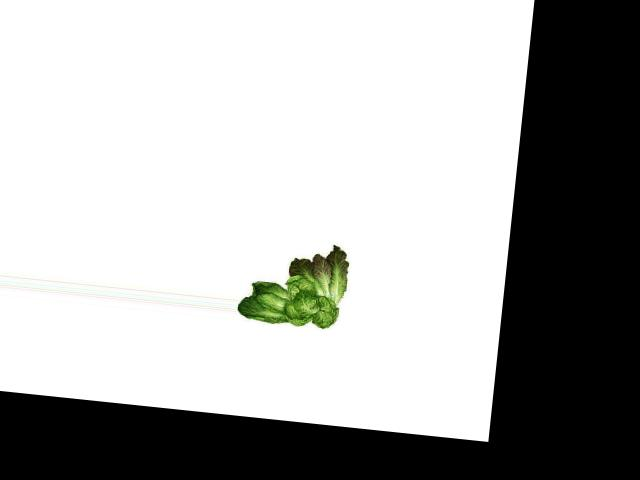lettuce: (235, 230, 353, 336)
